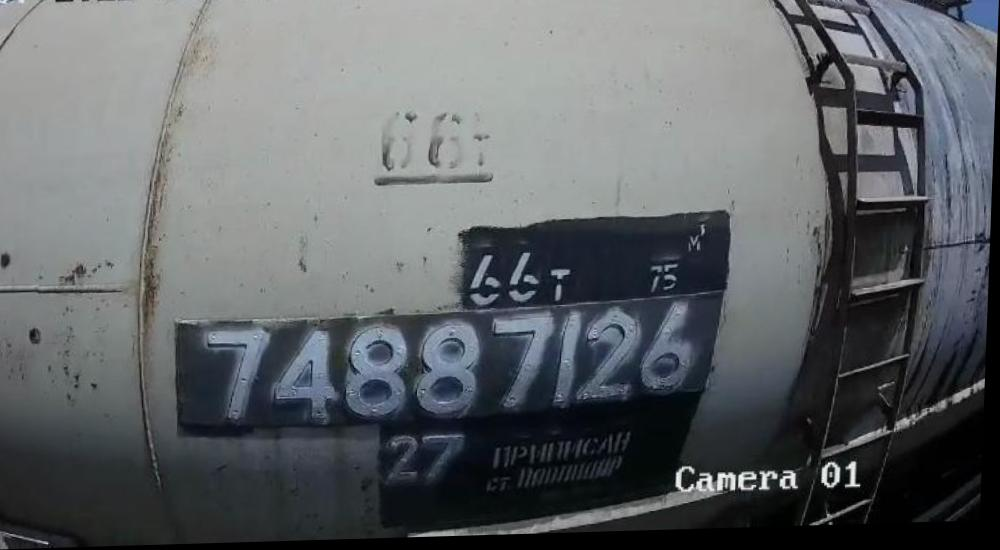Wagon-number: (198, 301, 720, 431)
